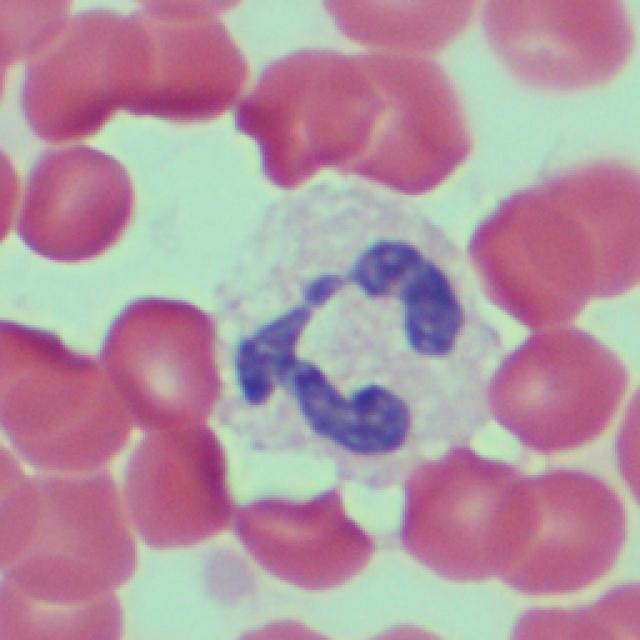RBC: (323, 32, 468, 198), (0, 312, 121, 504), (57, 0, 246, 122), (0, 462, 122, 637), (96, 398, 224, 554), (482, 316, 621, 458), (94, 288, 220, 440), (14, 131, 132, 275), (391, 441, 508, 585), (230, 480, 376, 594), (473, 0, 636, 95), (504, 607, 636, 640)
WBC: (204, 182, 489, 474)
